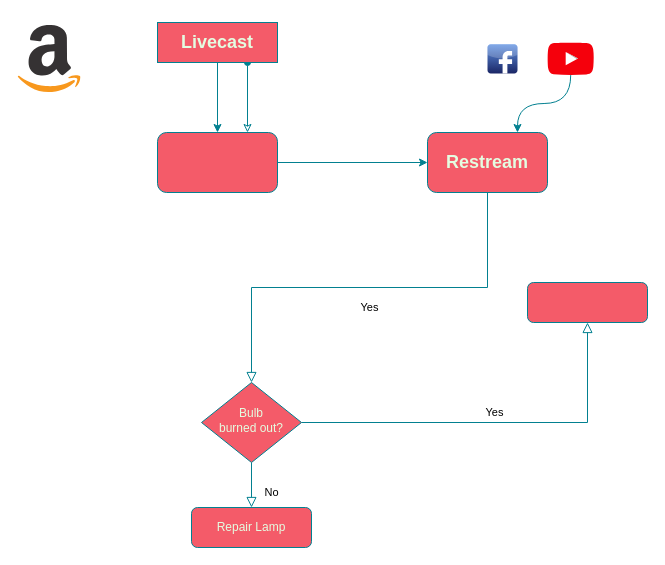
Image size: 665x565. Some labels were removed from this diagram. Here are the shapes that lost their labels. From the top down, the box of each, then its label:
(156, 132, 278, 192): xcoder 1
(526, 282, 648, 322): Replace Bulb
